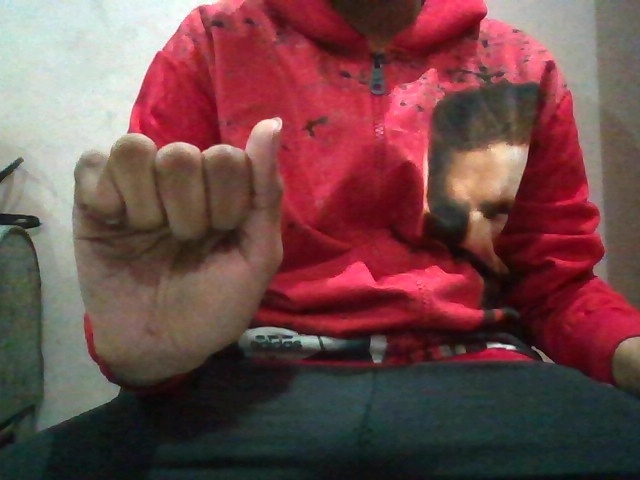A: (58, 109, 289, 376)
